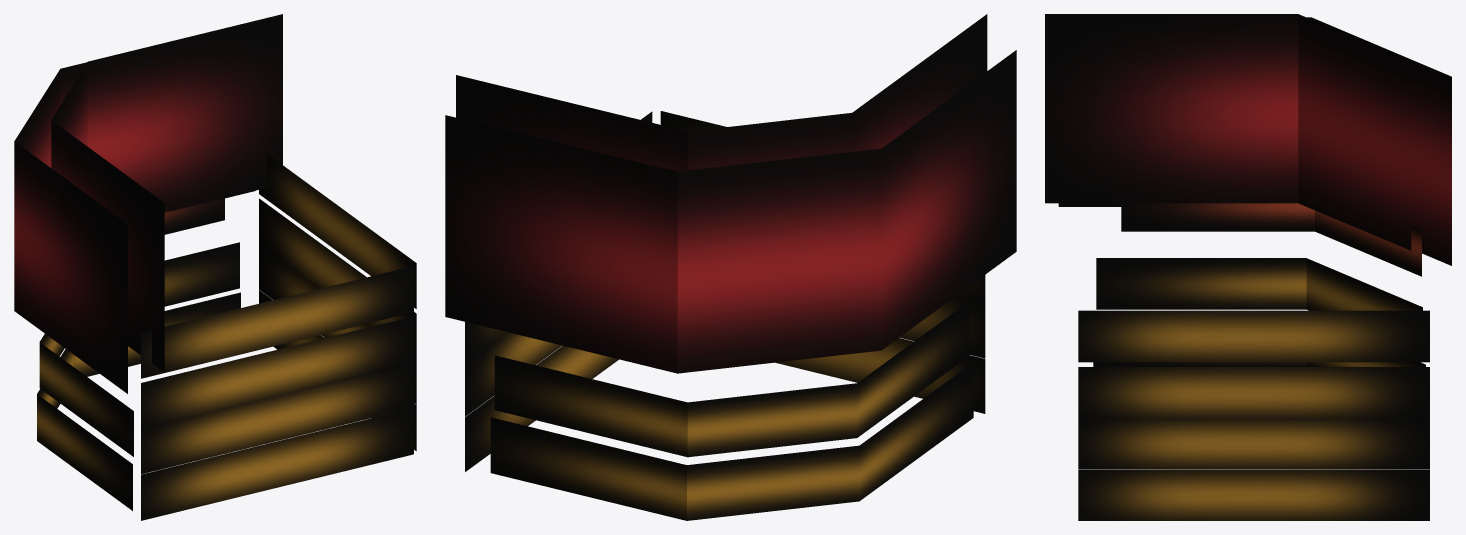
The model's file is buildlight01.FBX.
The picture shows the model from 3 angles, left to right: view 1: azimuth 30°, elevation 25°; view 2: azimuth 150°, elevation 25°; view 3: azimuth 270°, elevation 25°; orthographic projection. The views are drawn at different scales.
Visible parts, largest first — view 1: buildlight01; view 2: buildlight01; view 3: buildlight01.
Part boxes in pixels (box(x1,y1,x2,y2)): buildlight01: box(14, 14, 416, 520); buildlight01: box(445, 14, 1016, 520); buildlight01: box(1045, 14, 1451, 520).
Size of the model in its own units: 1.15 by 1.16 by 1.14.
Materials: 1 (1 with a texture image).
